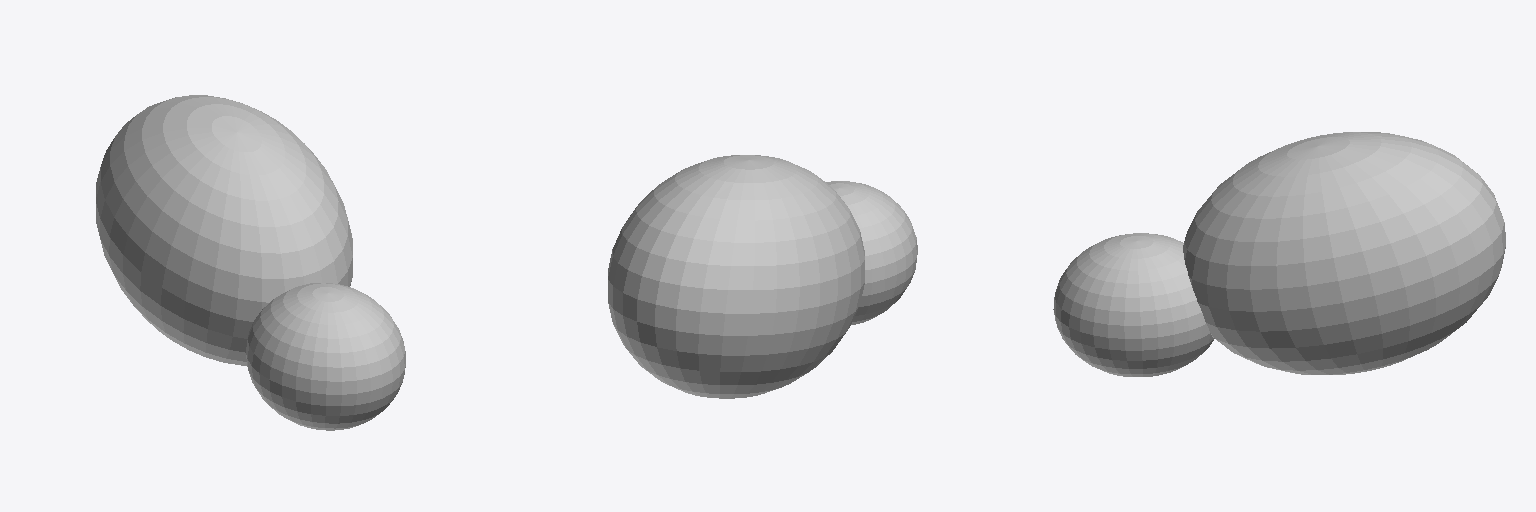
The model's file is mesh_body - Copy.obj.
3 renders of one model, left to right at view 1: azimuth 30°, elevation 25°; view 2: azimuth 150°, elevation 25°; view 3: azimuth 270°, elevation 25°, orthographic.
Parts seen in each view (by area): view 1: Sphere; view 2: Sphere; view 3: Sphere.
Boxes of the visible parts, <box> form: Sphere: <box>96,95,405,430</box>; Sphere: <box>608,155,917,398</box>; Sphere: <box>1053,132,1505,376</box>.
Bounding box in the file's own units: 1.9 × 2.05 × 3.69.